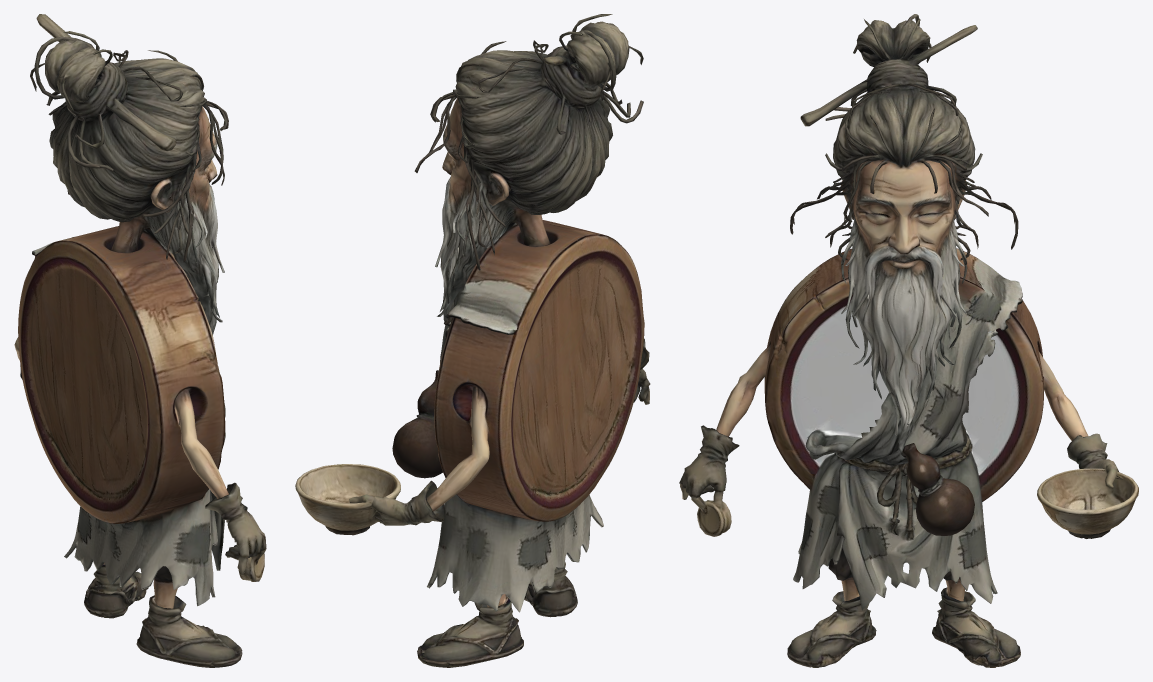
Rendered from p_b1p_lata_daoren.glb.
3 renders of one model, left to right at view 1: azimuth 30°, elevation 25°; view 2: azimuth 150°, elevation 25°; view 3: azimuth 270°, elevation 25°, orthographic. The views are drawn at different scales.
Visible parts, largest first — view 1: tripo_node_8e8dc739-752b-4c60-8f57-1938334e61e1; view 2: tripo_node_8e8dc739-752b-4c60-8f57-1938334e61e1; view 3: tripo_node_8e8dc739-752b-4c60-8f57-1938334e61e1.
Part boxes in pixels (x1,y1,x2,y2): tripo_node_8e8dc739-752b-4c60-8f57-1938334e61e1: (14,14,266,667); tripo_node_8e8dc739-752b-4c60-8f57-1938334e61e1: (295,14,650,667); tripo_node_8e8dc739-752b-4c60-8f57-1938334e61e1: (679,14,1138,667).
Size of the model in its own units: 0.3673 by 0.9776 by 0.685.
1 material, 1 textured.
